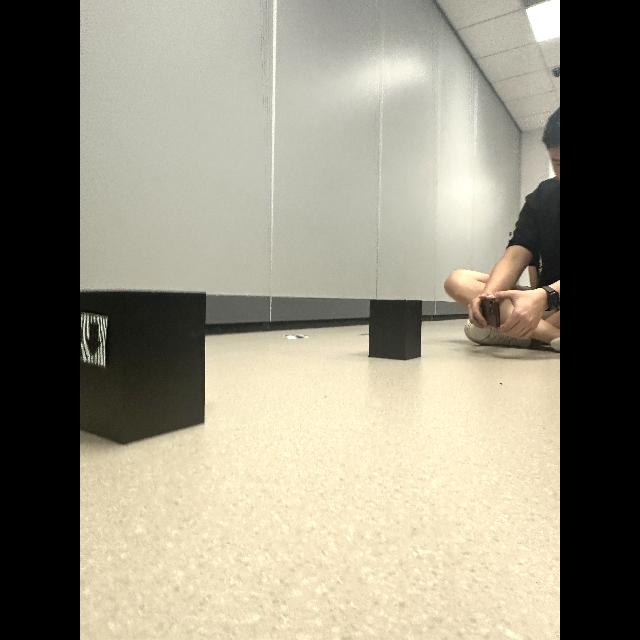DOWN: (86, 324, 101, 355)
